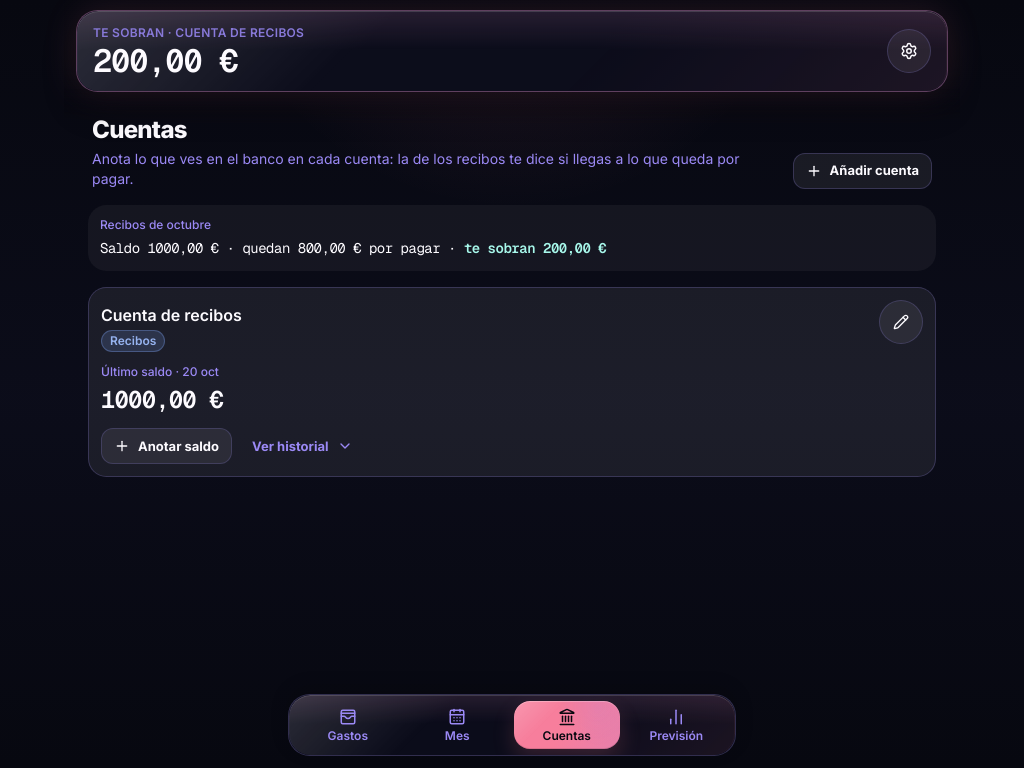
Test case: AccountsDashboard › heads the tab with what is left over in the bills account
This screenshot has width=1024, height=768.
Expected: the text "Te sobran · Cuenta de recibos" is shown, [93,25,304,41]
Expected: the text "200,00 €" is shown, [93,40,238,81]
# Con un saldo que no llega, lo que falta.
Click the button "Anotar saldo" at (166, 446), box [101,428,232,464]
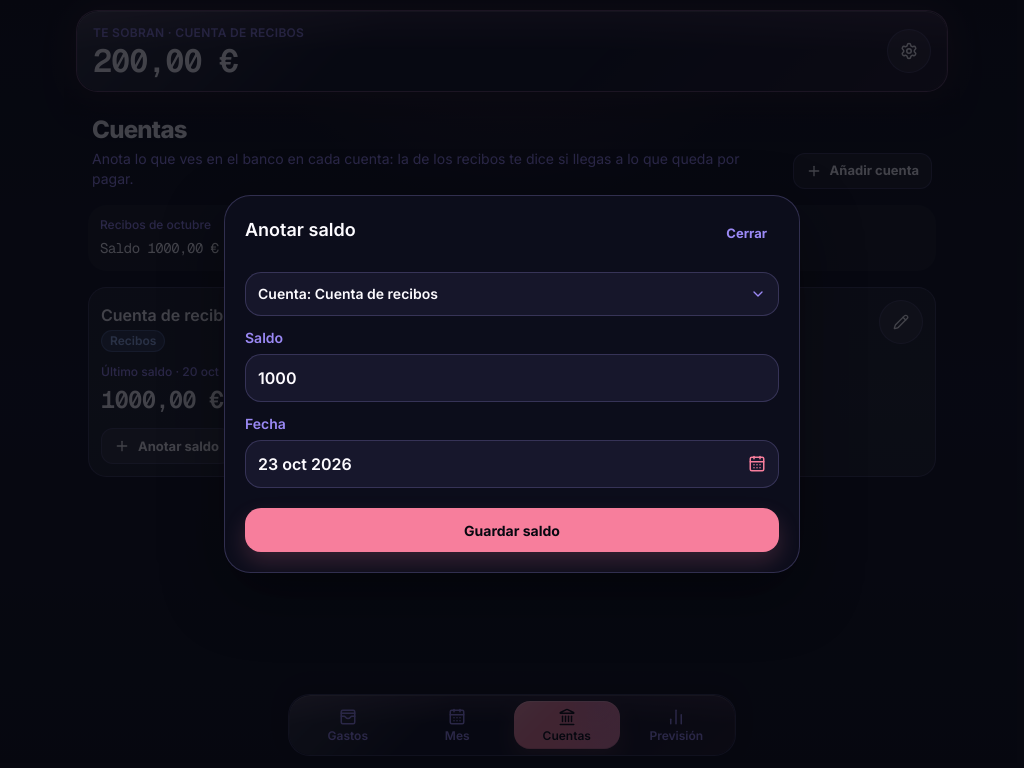
Replace the text in the field labelled "Saldo" with "500" at (512, 378), box [245,354,779,402]
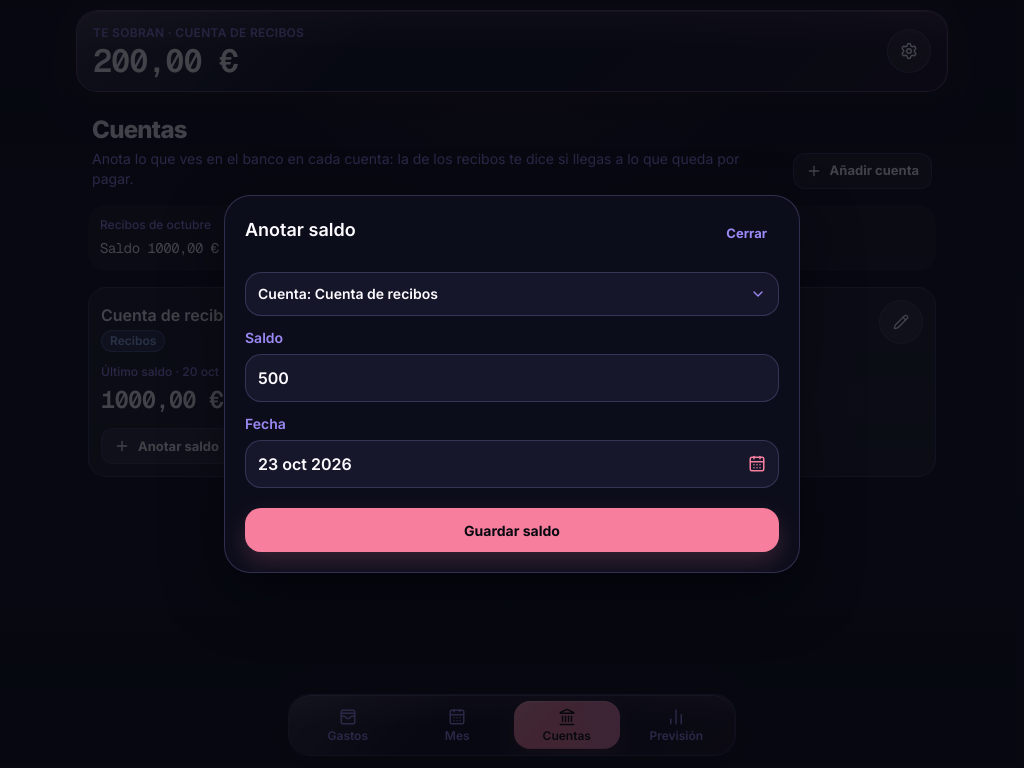
Click the button "Guardar saldo" at (512, 530), box [245,508,779,552]
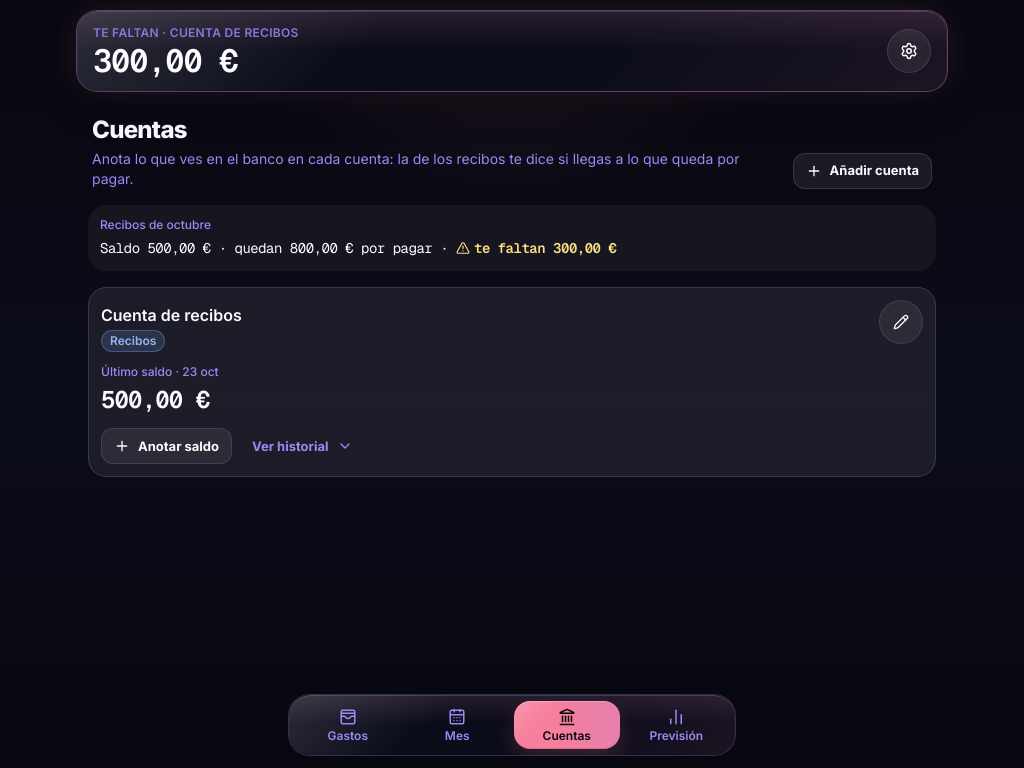
Expected: the text "Te faltan · Cuenta de recibos" is shown, [93,25,299,41]
